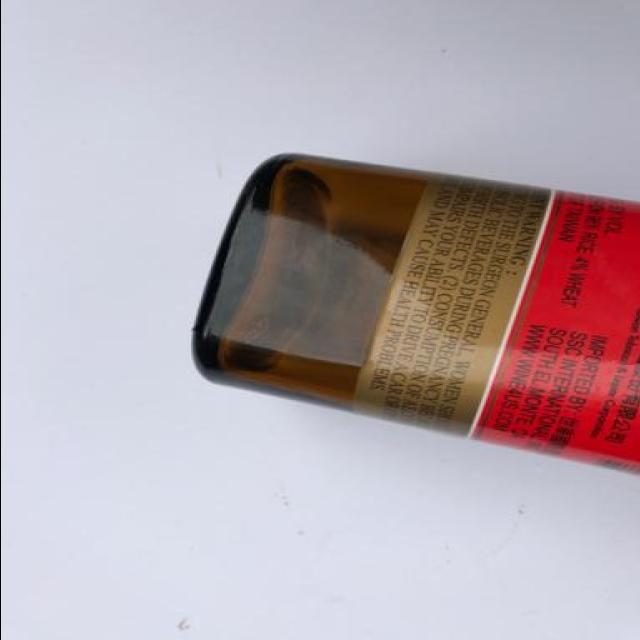glass: (188, 152, 640, 460)
